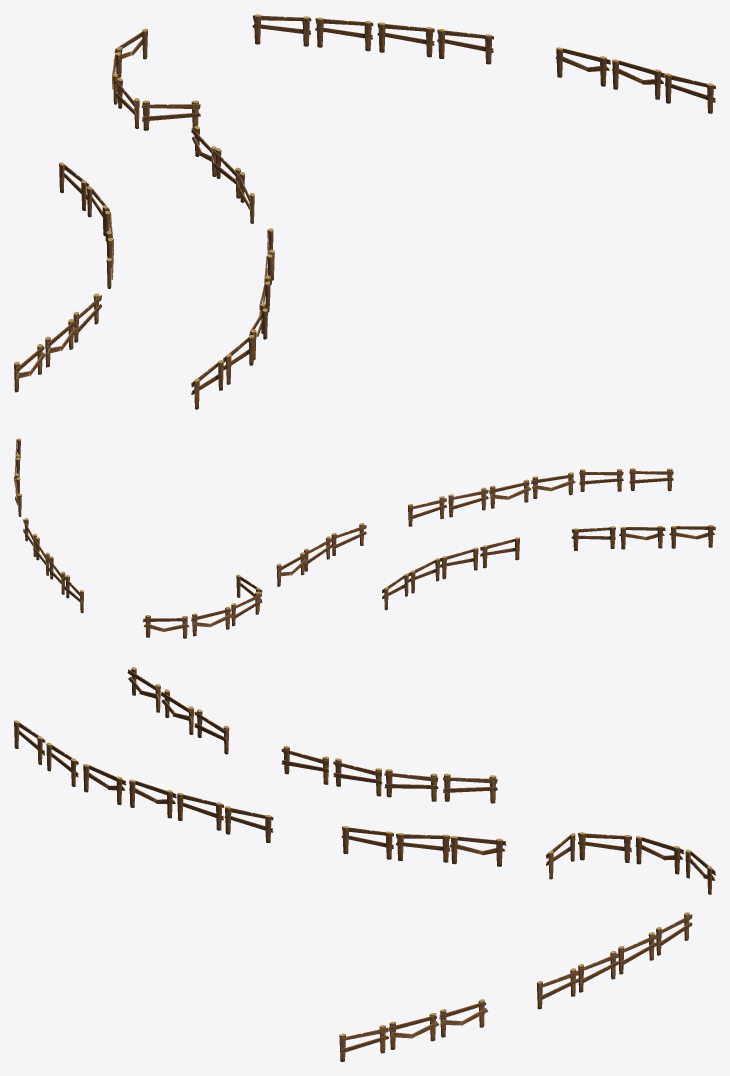
Rendered from Area_13_6.fbx.
3 views of the same model, one above another, from view 1: azimuth 30°, elevation 25°; view 2: azimuth 150°, elevation 25°; view 3: azimuth 270°, elevation 25° (orthographic). The views are drawn at different scales.
Visible parts, largest first — view 1: Area_13_6; view 2: Area_13_6; view 3: Area_13_6.
Part boxes in pixels (box(x1,y1,x2,y2)): Area_13_6: box(14, 14, 715, 409); Area_13_6: box(14, 438, 715, 638); Area_13_6: box(14, 667, 715, 1061).
Bounding box in the file's own units: 4170 × 147 × 3342.
